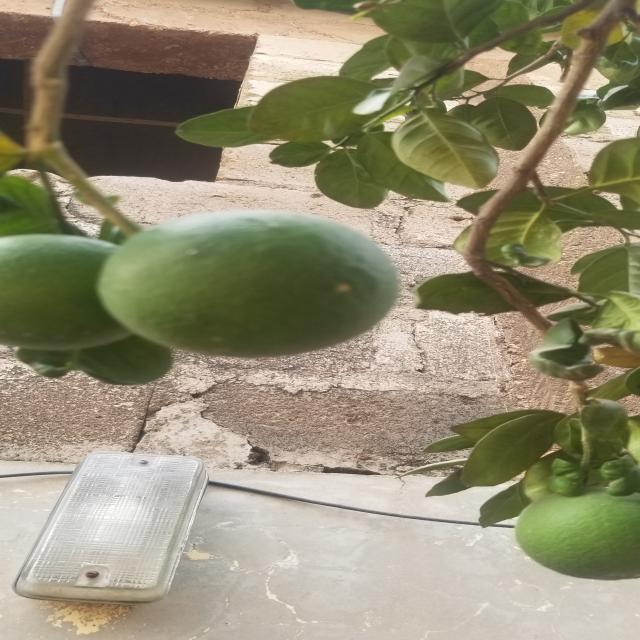Unripe: (101, 202, 418, 366), (0, 209, 137, 370), (503, 479, 640, 589)
